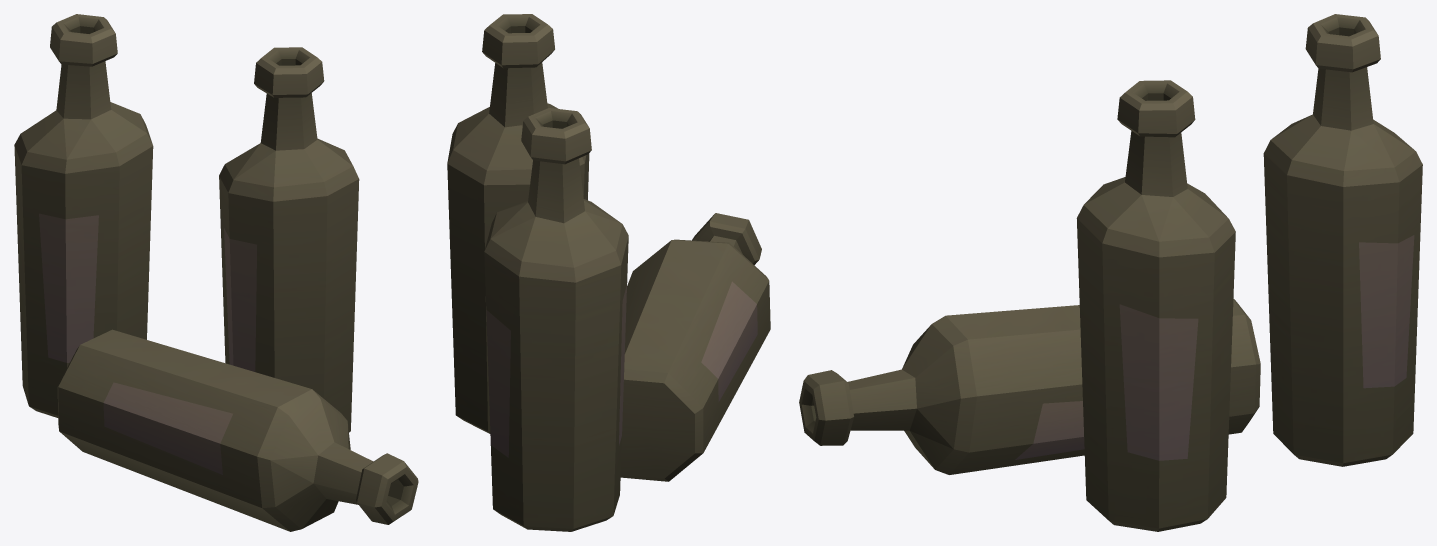
Rendered from SM_EN_WineEmptyBottles.fbx.
3 renders of one model, left to right at view 1: azimuth 30°, elevation 25°; view 2: azimuth 150°, elevation 25°; view 3: azimuth 270°, elevation 25°, orthographic. The views are drawn at different scales.
Parts seen in each view (by area): view 1: SM_EN_WineEmptyBottles; view 2: SM_EN_WineEmptyBottles; view 3: SM_EN_WineEmptyBottles.
Boxes of the visible parts, <box> form: SM_EN_WineEmptyBottles: <box>14,14,418,531</box>; SM_EN_WineEmptyBottles: <box>447,14,770,531</box>; SM_EN_WineEmptyBottles: <box>799,14,1422,531</box>.
Size of the model in its own units: 47.76 by 87.45 by 64.03.
